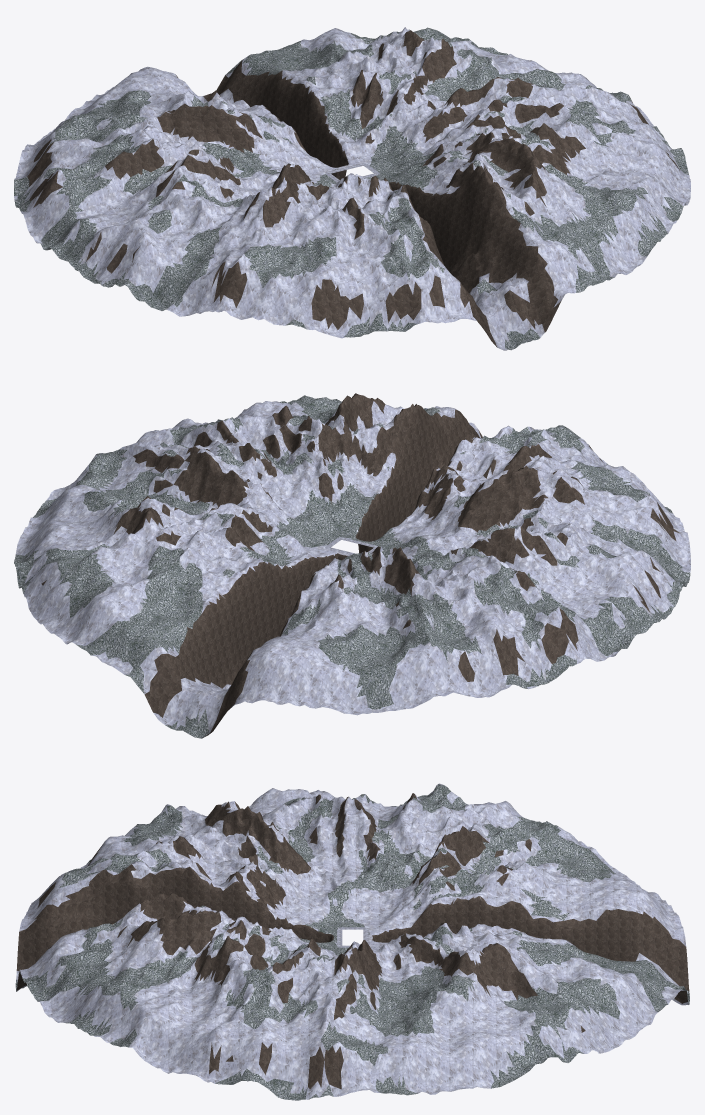
The model's file is backdrop_near_rect_iron_winter.glb.
The picture shows the model from 3 angles, top to bottom: view 1: azimuth 30°, elevation 25°; view 2: azimuth 150°, elevation 25°; view 3: azimuth 270°, elevation 25°; orthographic projection.
Parts seen in each view (by area): view 1: near_land_S, near_land_W, near_land_E, near_land_N; view 2: near_land_N, near_land_W, near_land_E, near_land_S; view 3: near_land_E, near_land_S, near_land_N, near_land_W.
Part boxes in pixels (x1=…): near_land_S: x1=264, y1=126, x2=678, y2=350; near_land_W: x1=14, y1=103, x2=336, y2=320; near_land_E: x1=357, y1=29, x2=690, y2=218; near_land_N: x1=25, y1=27, x2=431, y2=179; near_land_N: x1=26, y1=514, x2=441, y2=738; near_land_W: x1=372, y1=465, x2=690, y2=697; near_land_E: x1=14, y1=401, x2=349, y2=597; near_land_S: x1=272, y1=393, x2=675, y2=553; near_land_E: x1=113, y1=920, x2=590, y2=1100; near_land_S: x1=15, y1=824, x2=338, y2=1044; near_land_N: x1=368, y1=826, x2=689, y2=1053; near_land_W: x1=138, y1=783, x2=589, y2=932.
Bounding box in the file's own units: 577 × 168 × 578.
Materials: 4 (4 with a texture image).
